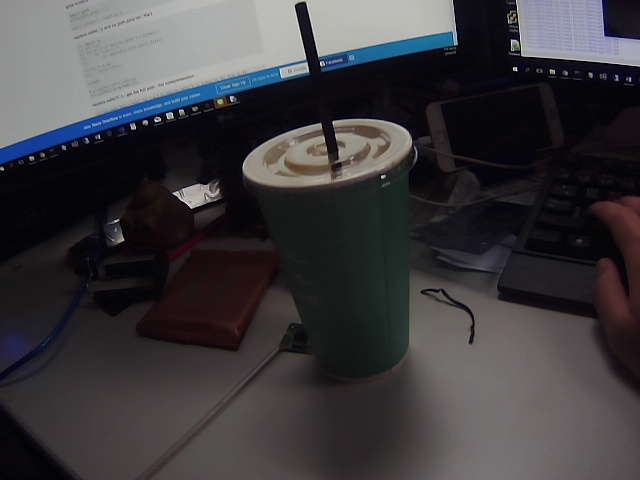beverage: (229, 1, 465, 401)
